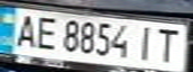4: (109, 21, 136, 60)
5: (93, 20, 115, 57)
8: (57, 18, 81, 53), (78, 19, 96, 55)
A: (9, 11, 42, 48)
E: (30, 13, 60, 51)
I: (133, 24, 160, 62)
T: (151, 25, 187, 64)
